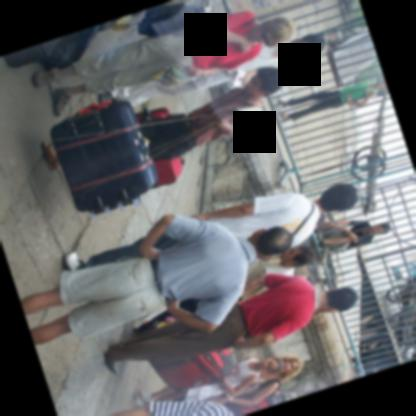backpack: (43, 24, 103, 70), (222, 379, 290, 416)
handbag: (136, 2, 207, 40), (148, 60, 194, 90), (291, 201, 315, 237)
suitcase: (52, 98, 158, 216), (141, 352, 232, 396), (37, 24, 101, 72), (4, 37, 62, 70), (152, 156, 185, 189), (133, 106, 170, 121)
